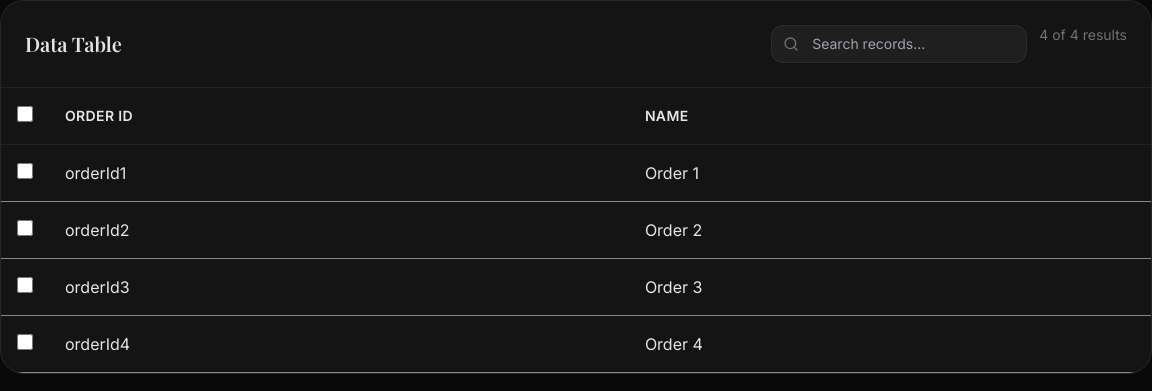
Test: DataTable selection behavior › partial selection sets indeterminate state and header click selects all visible rows
Click the checkbox next to "orderId2": (25, 228) [17, 220, 33, 236]
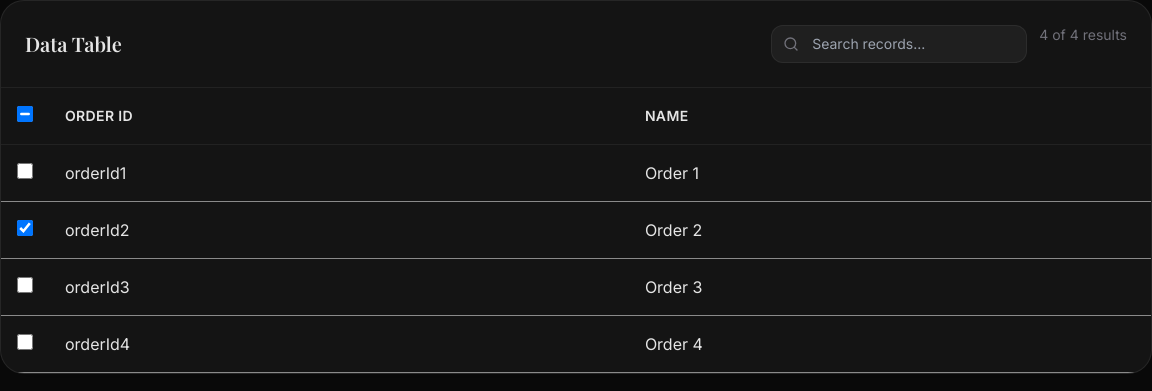
Click the checkbox next to "Order ID": (25, 114) [17, 106, 33, 122]
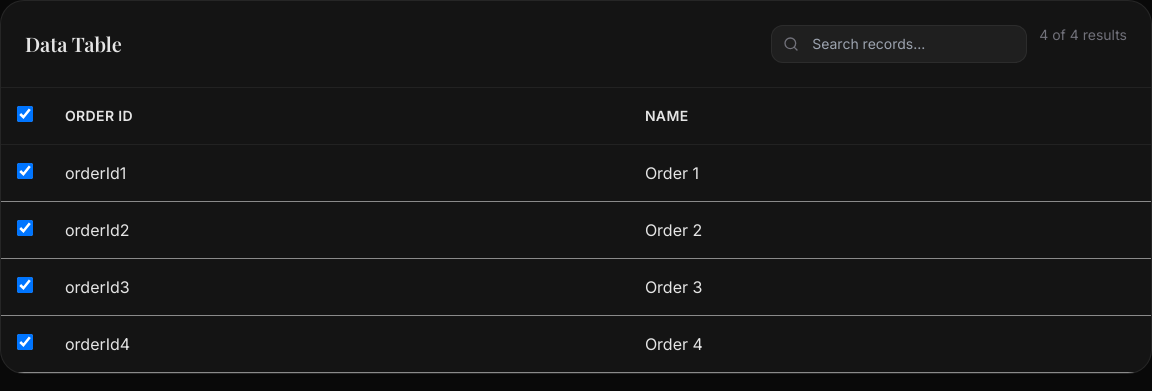
Expected: the checkbox next to "orderId2" is checked, [17, 220, 33, 236]
Expected: the checkbox next to "orderId1" is checked, [17, 163, 33, 179]
Expected: the checkbox next to "orderId3" is checked, [17, 277, 33, 293]
